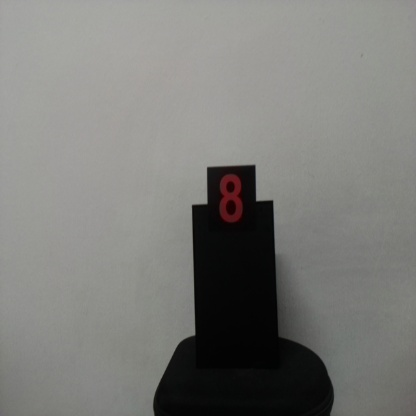id_8: (207, 167, 256, 244)
